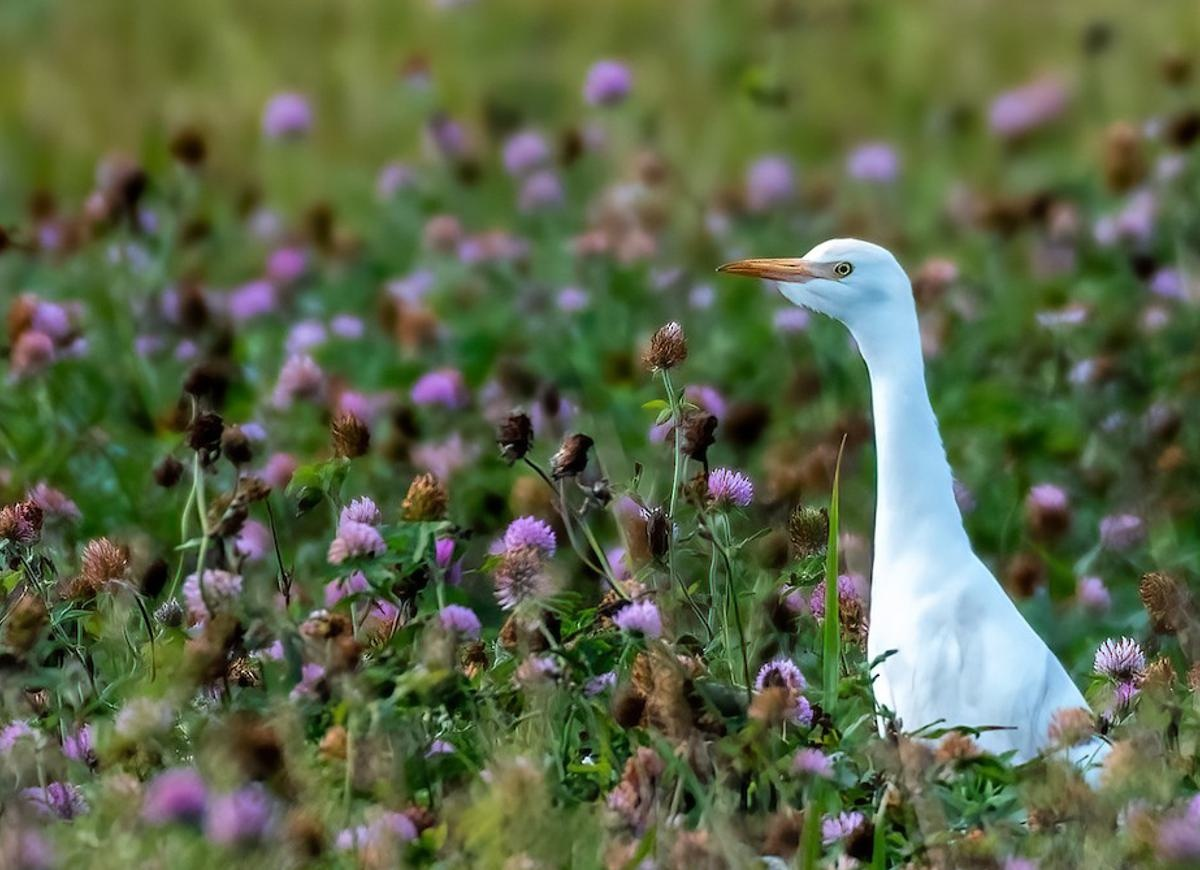egret: (720, 218, 1097, 787)
